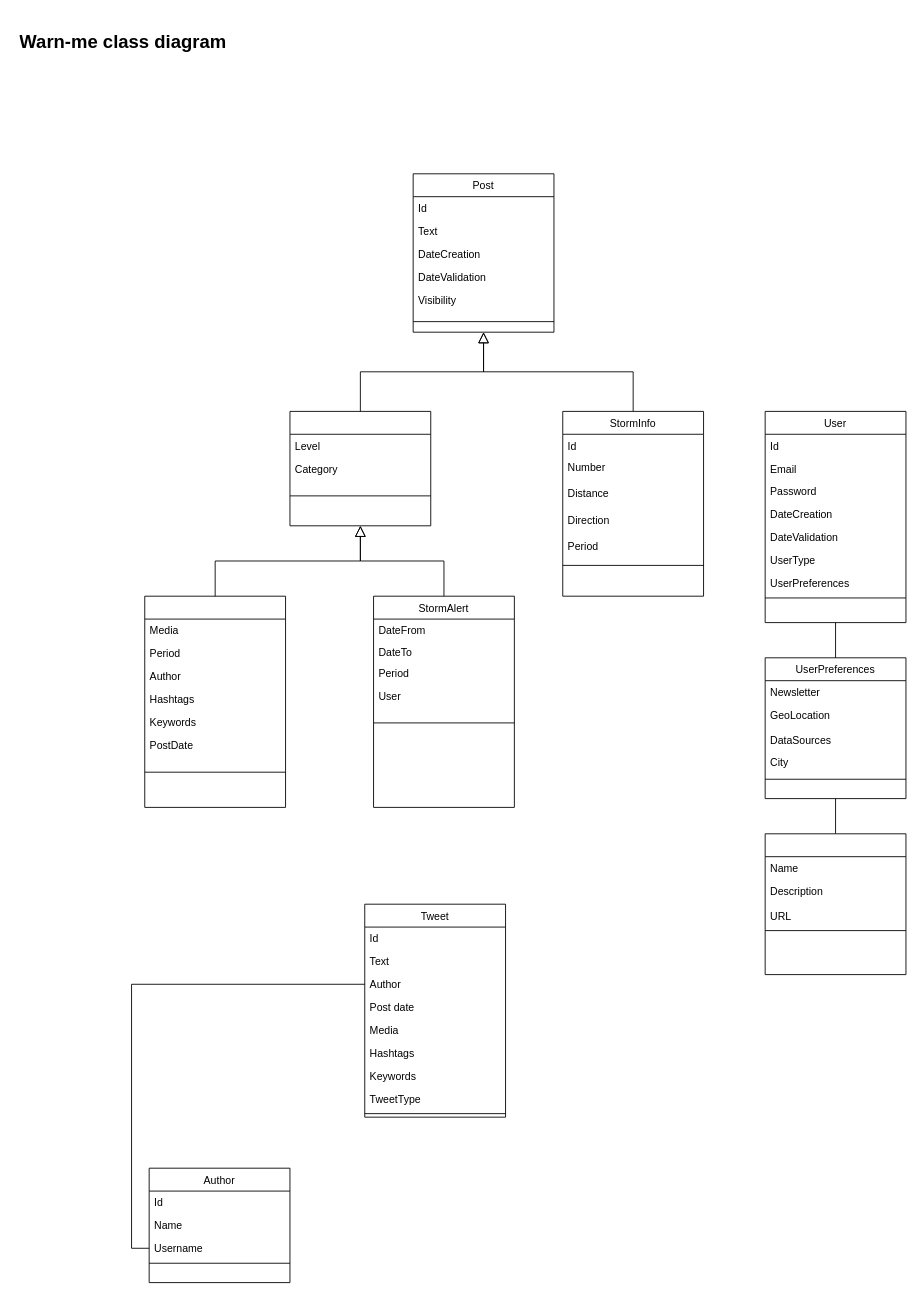
This 921x1298 diagram has some shape labels left out. The box of each missing label's shape, as (x1, y1, x2, y2) in pixels:
DataSource: (764, 833, 906, 975)
MeteoAlert: (289, 411, 431, 526)
TwitterAlert: (144, 595, 286, 807)
